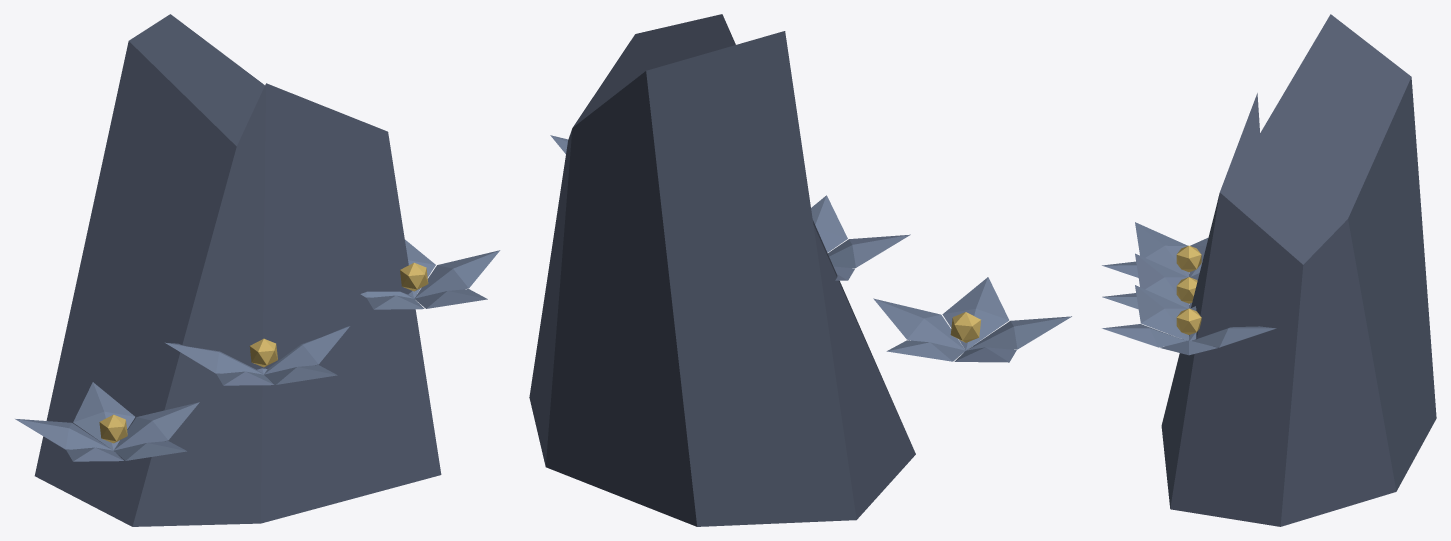
File: map-boundaries-v5__grave_03.glb
3 views of the same model, side by side, from view 1: azimuth 30°, elevation 25°; view 2: azimuth 150°, elevation 25°; view 3: azimuth 270°, elevation 25° (orthographic). The views are drawn at different scales.
Parts seen in each view (by area): view 1: grave_03; view 2: grave_03; view 3: grave_03.
Boxes of the visible parts, bbox=[...] form: grave_03: bbox=[15, 14, 500, 526]; grave_03: bbox=[529, 14, 1071, 526]; grave_03: bbox=[1102, 14, 1436, 526].
Size of the model in its own units: 1.22 by 1.08 by 0.8362.
